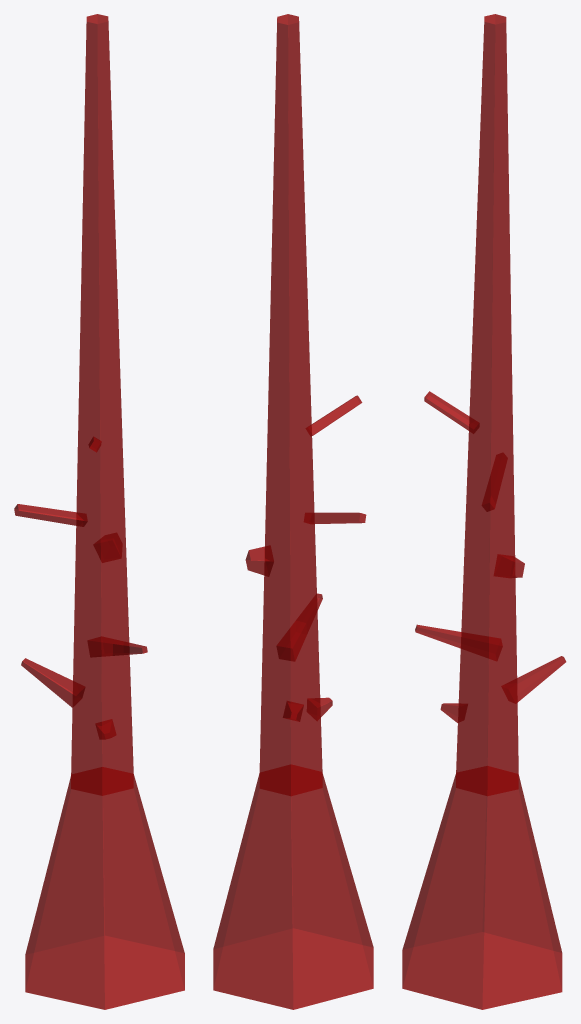
Rendered from SM_Env_Tree_Dead_01_Collision.fbx.
3 views of the same model, side by side, from view 1: azimuth 30°, elevation 25°; view 2: azimuth 150°, elevation 25°; view 3: azimuth 270°, elevation 25° (orthographic).
Parts seen in each view (by area): view 1: SM_Env_Tree_Dead_01_Collision; view 2: SM_Env_Tree_Dead_01_Collision; view 3: SM_Env_Tree_Dead_01_Collision.
Part boxes in pixels (x1,y1,x2,y2): SM_Env_Tree_Dead_01_Collision: (14, 14, 184, 1009); SM_Env_Tree_Dead_01_Collision: (213, 14, 373, 1009); SM_Env_Tree_Dead_01_Collision: (402, 14, 566, 1009).
Size of the model in its own units: 157 by 889 by 139.
